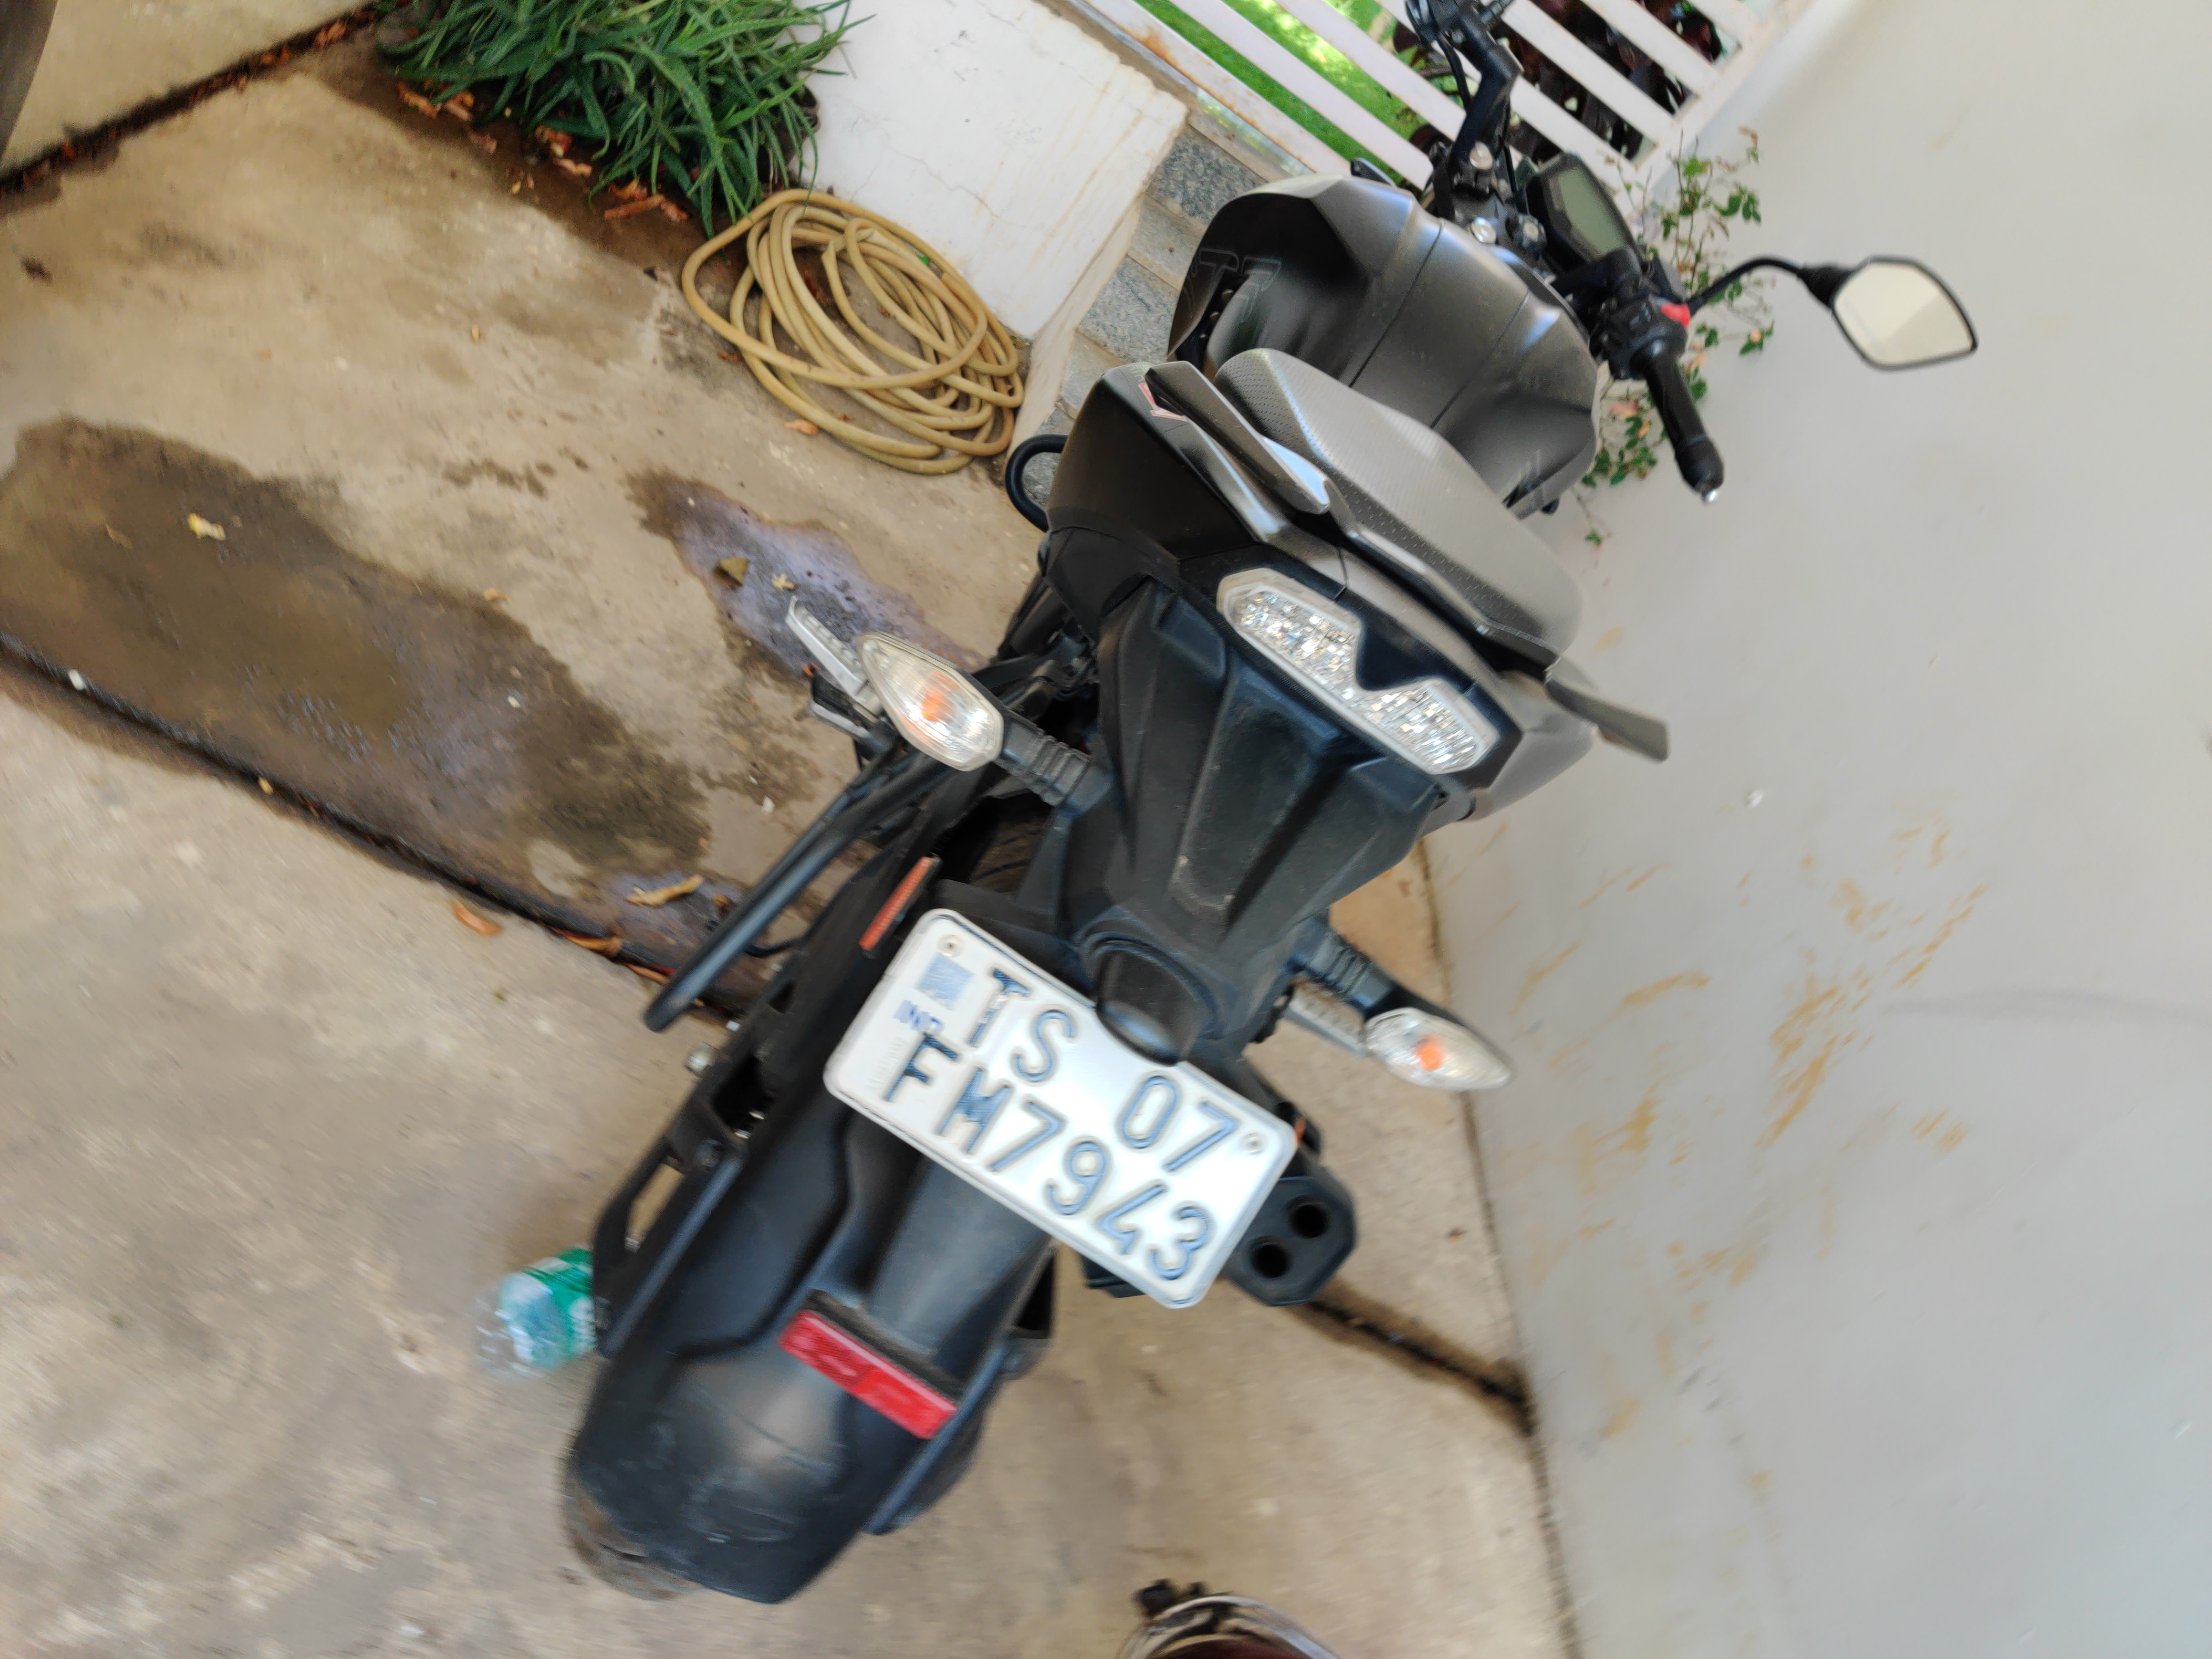plate: (806, 896, 1345, 1315)
